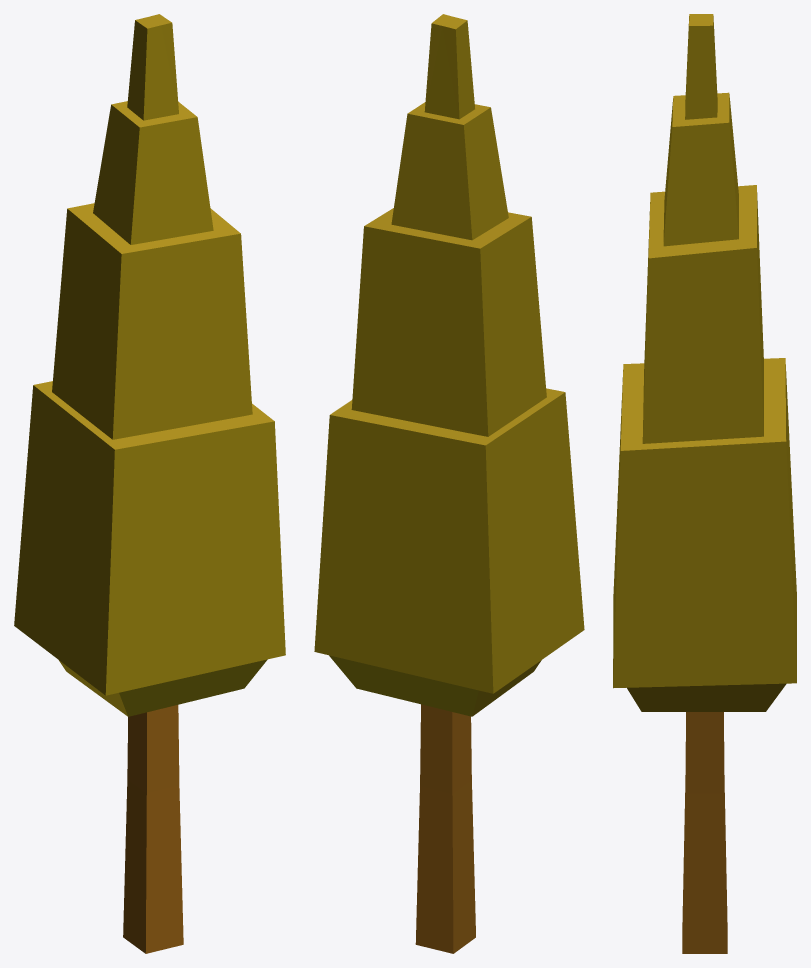
The model's file is SF_Env_Tree_08.fbx.
3 renders of one model, left to right at view 1: azimuth 30°, elevation 25°; view 2: azimuth 150°, elevation 25°; view 3: azimuth 270°, elevation 25°, orthographic.
Visible parts, largest first — view 1: SF_Prop_Tree_08; view 2: SF_Prop_Tree_08; view 3: SF_Prop_Tree_08.
Boxes of the visible parts, box(x1,y1,x2,y2) form: SF_Prop_Tree_08: box(14, 14, 285, 953); SF_Prop_Tree_08: box(314, 14, 584, 953); SF_Prop_Tree_08: box(613, 14, 796, 953).
Size of the model in its own units: 1.93 by 9.43 by 1.7.
